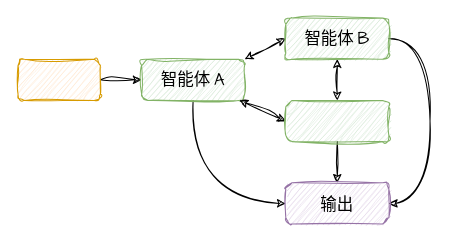
The diagram is 449 pixels wide and 242 high, and some of its shapes have lost their labels. Each missing label, with the centre of its shape:
"智能体 C" belongs at point (337, 120).
"用户" belongs at point (58, 79).
